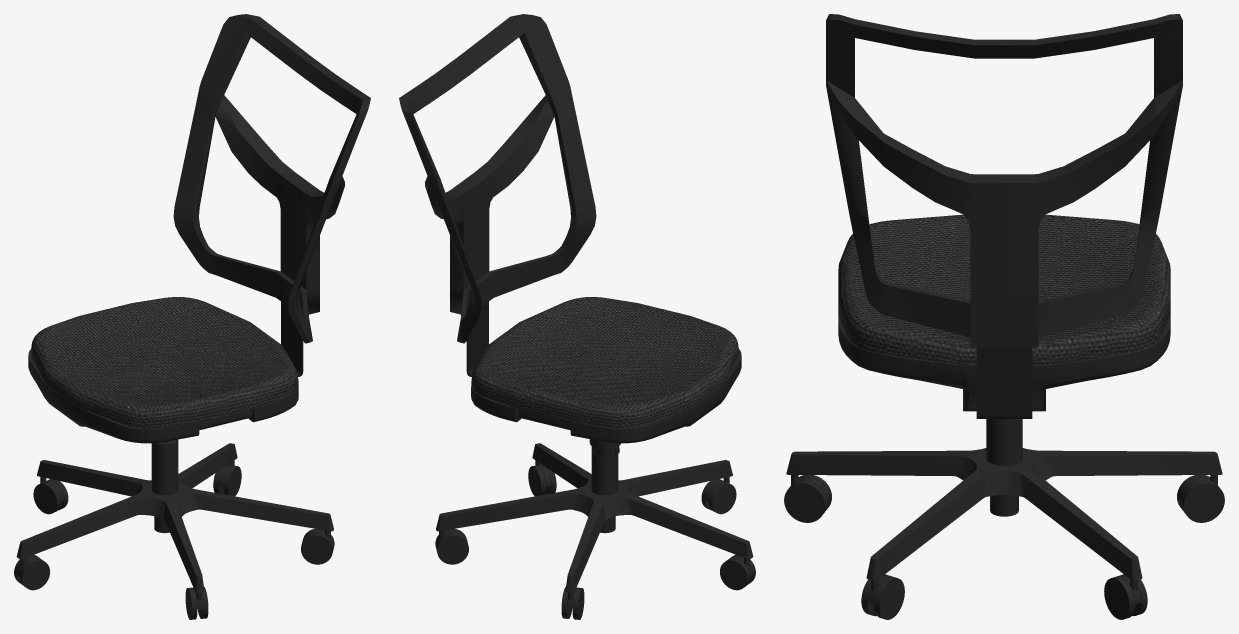
The model's file is office-chair.glb.
3 renders of one model, left to right at view 1: azimuth 30°, elevation 25°; view 2: azimuth 150°, elevation 25°; view 3: azimuth 270°, elevation 25°, orthographic. The views are drawn at different scales.
Visible parts, largest first — view 1: Box005, Plane002, Base, Box002, Cylinder009, Box006, Cylinder007, Cylinder005, Cylinder003, Cylinder006, Cylinder004; view 2: Box005, Plane002, Base, Box002, Cylinder009, Box006, Cylinder004, Cylinder006, Cylinder003, Cylinder005, Cylinder007; view 3: Plane002, Box005, Base, Box002, Box006, Cylinder009, Cylinder004, Cylinder007, Cylinder005, Cylinder006.
Part boxes in pixels (box(x1,y1,x2,y2)): Box005: box(31, 297, 298, 428); Plane002: box(173, 14, 370, 343); Base: box(16, 443, 333, 592); Box002: box(28, 349, 298, 443); Cylinder009: box(151, 439, 178, 533); Box006: box(281, 301, 303, 376); Cylinder007: box(33, 477, 68, 514); Cylinder005: box(301, 528, 334, 564); Cylinder003: box(14, 554, 49, 590); Cylinder006: box(213, 460, 241, 496); Cylinder004: box(185, 587, 208, 619); Box005: box(471, 297, 738, 428); Plane002: box(399, 14, 596, 343); Base: box(436, 443, 753, 592); Box002: box(471, 349, 741, 443); Cylinder009: box(591, 446, 618, 533); Box006: box(466, 301, 488, 376); Cylinder004: box(701, 477, 736, 514); Cylinder006: box(435, 528, 468, 564); Cylinder003: box(720, 554, 755, 590); Cylinder005: box(528, 460, 556, 496); Cylinder007: box(561, 587, 584, 619); Plane002: box(826, 14, 1182, 346); Box005: box(838, 214, 1170, 365); Base: box(786, 448, 1222, 580); Box002: box(838, 315, 1170, 411); Box006: box(976, 346, 1032, 418); Cylinder009: box(986, 419, 1022, 516); Cylinder004: box(784, 475, 831, 522); Cylinder007: box(1177, 475, 1224, 522); Cylinder005: box(861, 574, 904, 619); Cylinder006: box(1104, 574, 1147, 619).
Bounding box in the file's own units: 66 × 94.79 × 61.17.
Materials: 3 (1 with a texture image).
